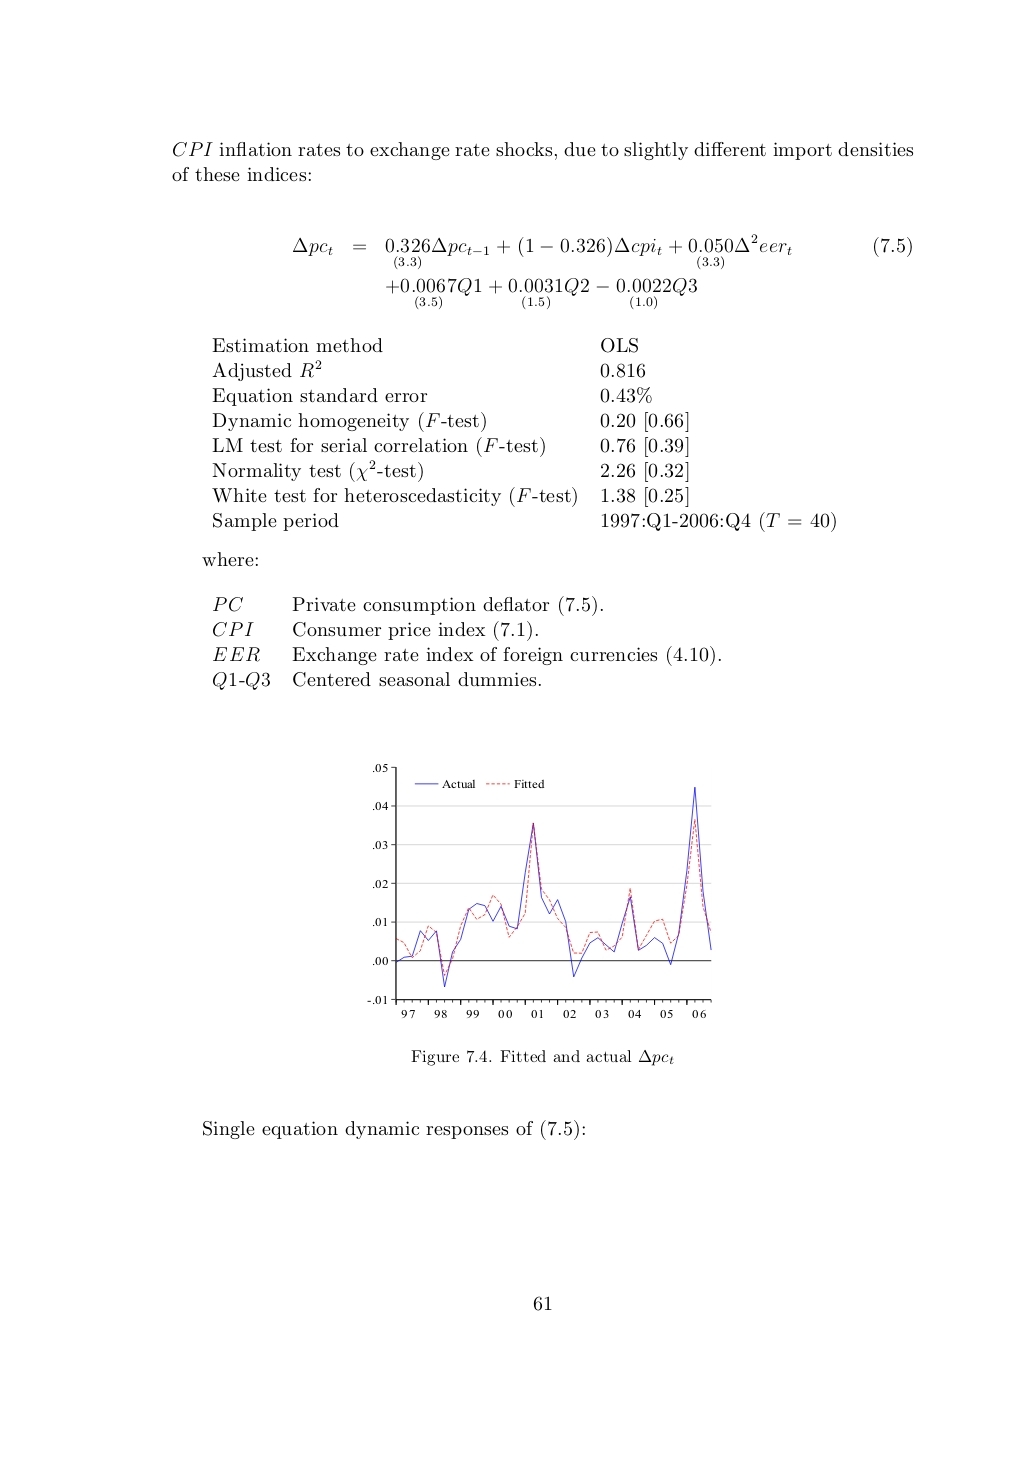Table: (212, 338, 835, 531)
figure: (367, 764, 711, 1018)
formula: (293, 232, 911, 270), (386, 277, 696, 310)
